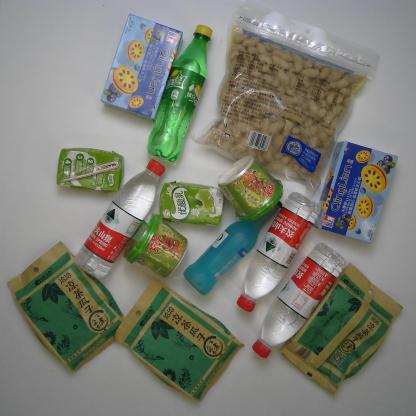Alcohol: (183, 200, 283, 297)
Dessert: (99, 12, 184, 123), (312, 140, 400, 246)
Dried Food: (187, 0, 382, 202), (279, 260, 406, 397), (112, 277, 248, 403), (5, 240, 125, 372)
Drink: (251, 239, 347, 360), (72, 157, 166, 280), (235, 189, 324, 314), (146, 22, 214, 163)
Instant Drink: (216, 154, 284, 223), (122, 212, 188, 279)
Milk: (56, 147, 125, 193), (158, 180, 225, 227)
